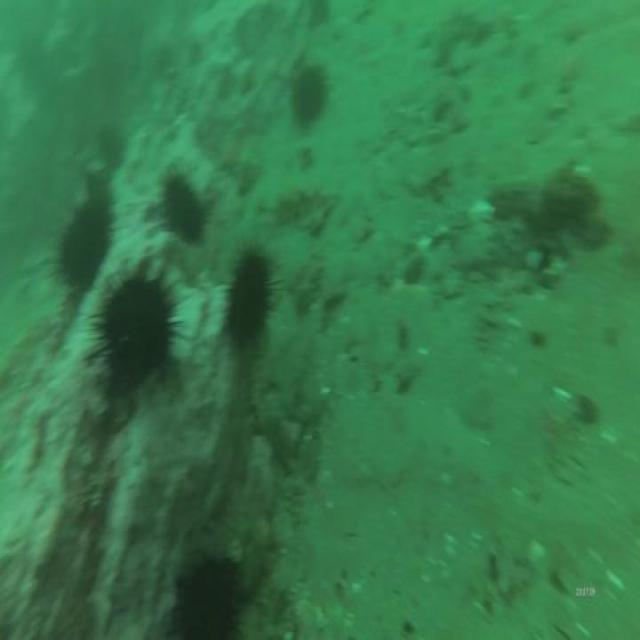echinus: (86, 253, 182, 403), (160, 543, 245, 640), (223, 237, 287, 360), (46, 191, 116, 300), (156, 166, 212, 251), (287, 59, 332, 131), (94, 126, 122, 172)
holothurian: (269, 184, 319, 228)
